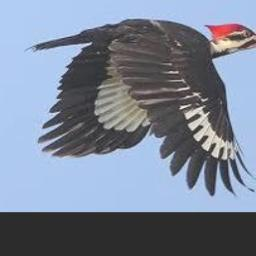Woodpecker: (23, 18, 256, 196)
